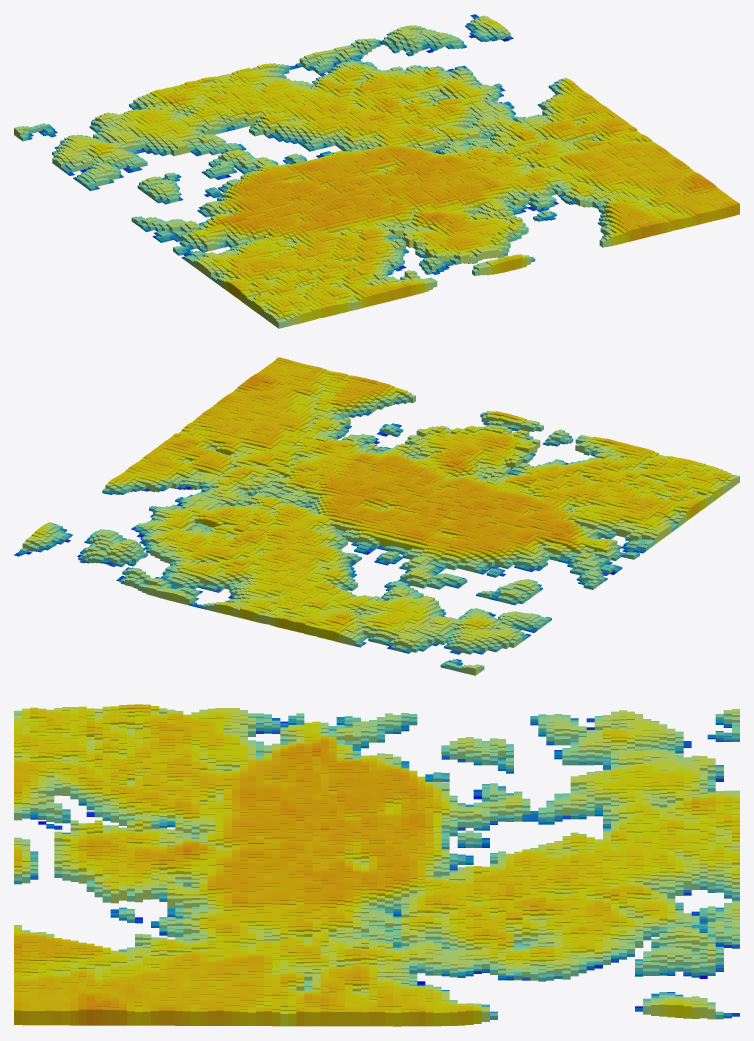
The model's file is population.glb.
The picture shows the model from 3 angles, top to bottom: view 1: azimuth 30°, elevation 25°; view 2: azimuth 150°, elevation 25°; view 3: azimuth 270°, elevation 25°; orthographic projection. The views are drawn at different scales.
Parts seen in each view (by area): view 1: population; view 2: population; view 3: population.
Boxes of the visible parts, <box> form: population: <box>14,14,739,328</box>; population: <box>14,357,739,675</box>; population: <box>14,704,739,1026</box>.
Bounding box in the file's own units: 9030 × 504 × 8968.
